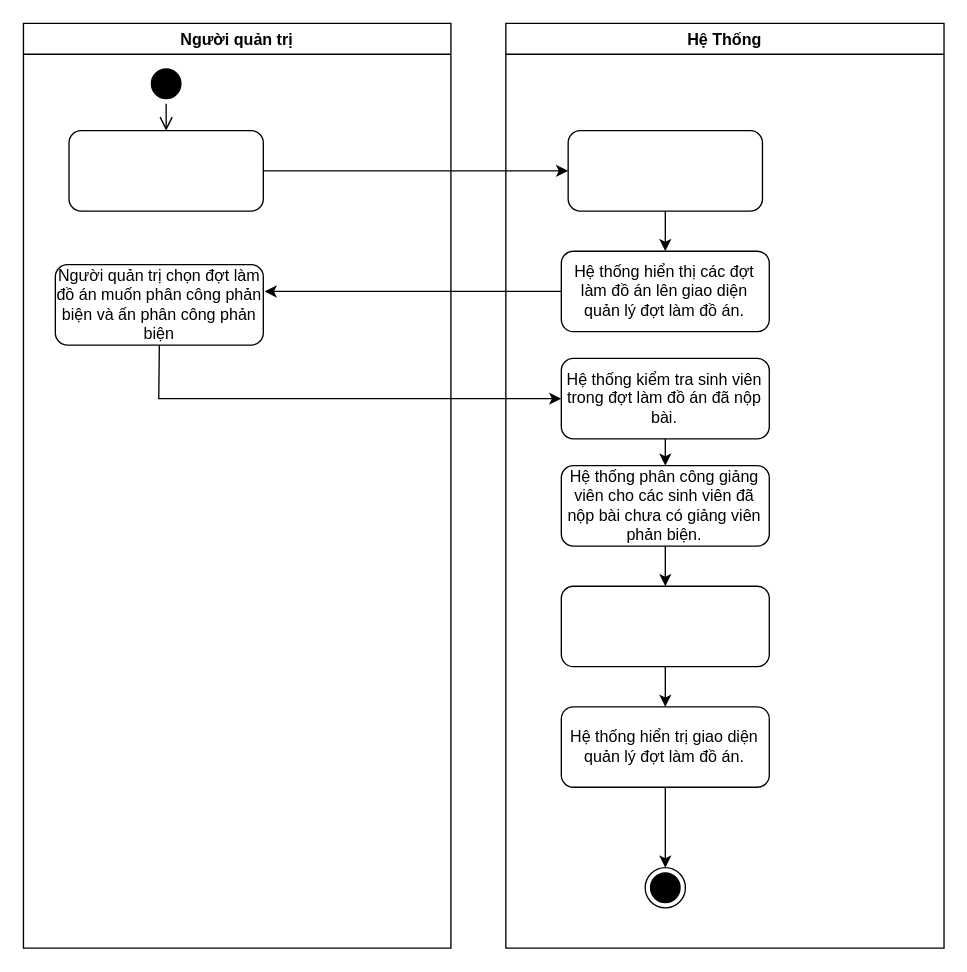
Some shapes in this 967 by 972 pixel diagram are drawn without their labels. Each missing label, with the box of its shape:
Hệ thống hiển thị thông báo phân công thành công.: (560, 585, 769, 667)
Hệ thống lấy thông tin về các đợt làm đồ án trên cơ sở dữ liệu.: (567, 129, 762, 211)
Người quản trị chọn chức năng quản lý đợt làm đồ án: (68, 129, 263, 211)
